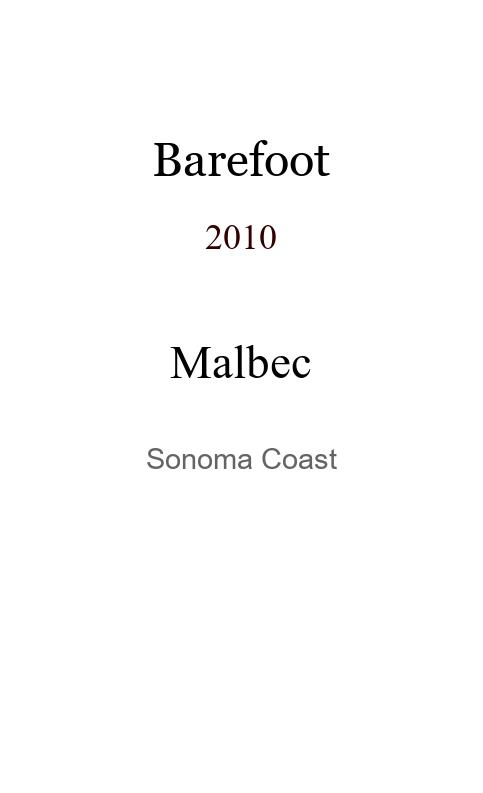brand: (152, 132, 330, 168)
region: (146, 442, 337, 463)
variety: (170, 336, 312, 369)
vintage: (205, 216, 277, 240)
